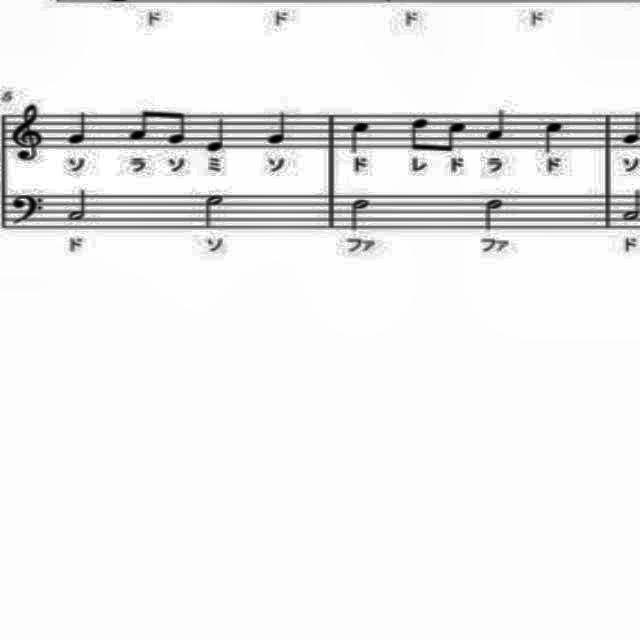Bass-clef: (6, 192, 52, 226)
Eighth-note: (441, 108, 469, 156), (124, 106, 156, 146), (406, 111, 434, 155), (164, 104, 190, 148)
Half-note: (200, 190, 230, 234), (480, 193, 508, 235), (62, 186, 90, 226), (346, 197, 374, 235)
Quarter-note: (205, 110, 235, 154), (66, 105, 94, 147), (541, 118, 569, 154), (265, 106, 289, 146), (348, 118, 372, 154), (484, 108, 508, 144)
Treble-clef: (6, 102, 54, 164)
